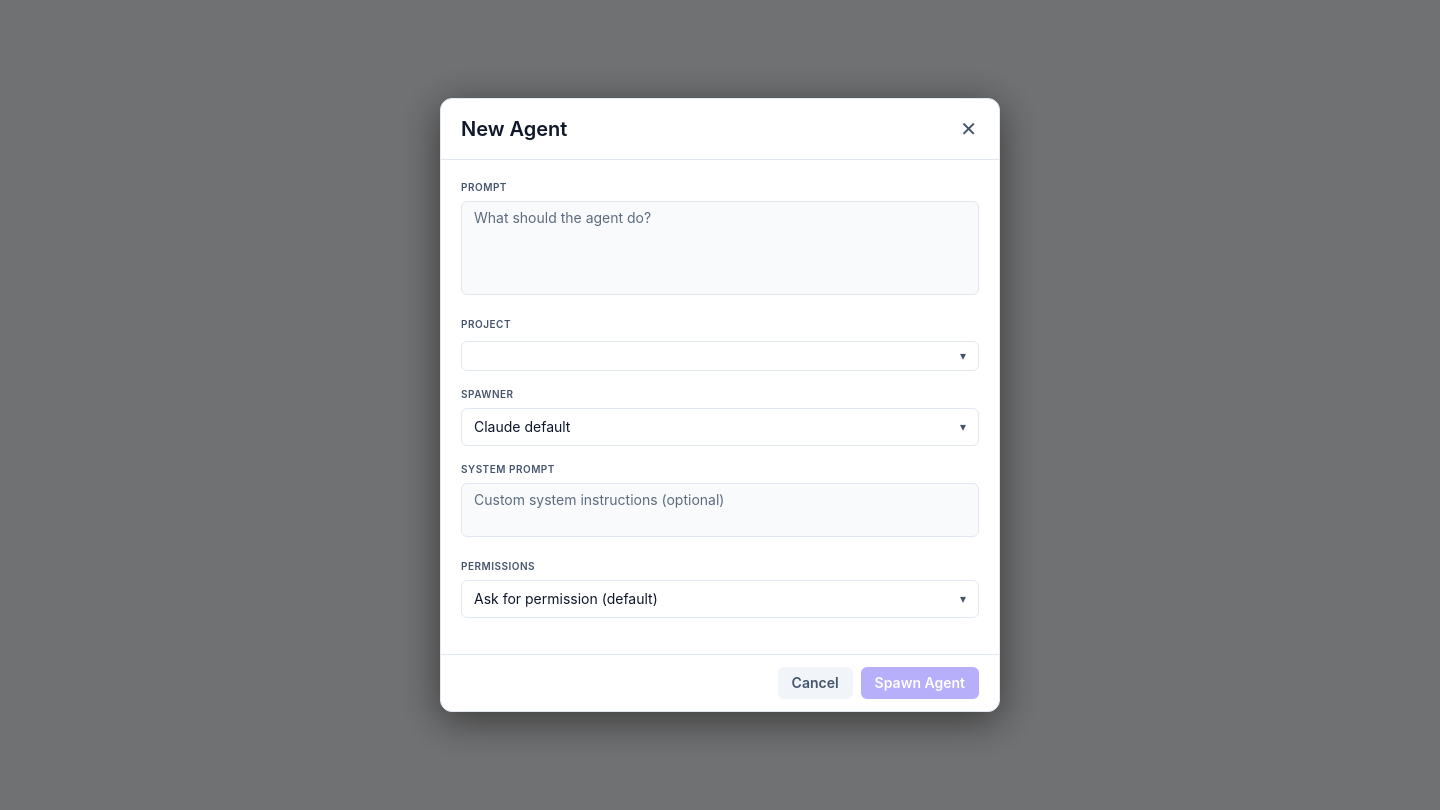
Test case: spawnDialog › dontAsk also shows the dangerous-mode warning banner
The image size is (1440, 810).
Click the dropdown with test id "spawn-permission-mode": (566, 598) [461,580,979,618]
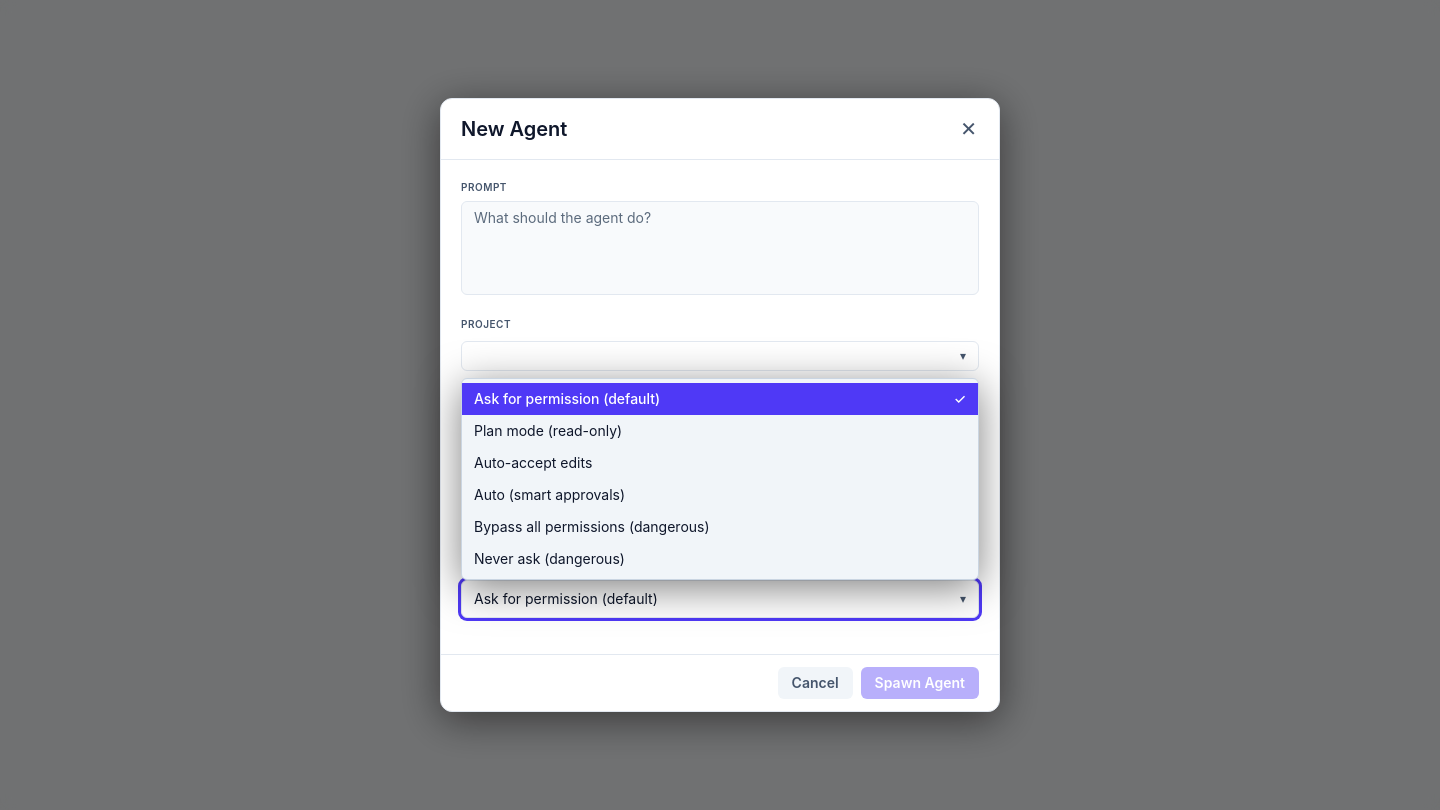
Click the option "Never ask (dangerous)": (549, 558) [474,550,625,567]
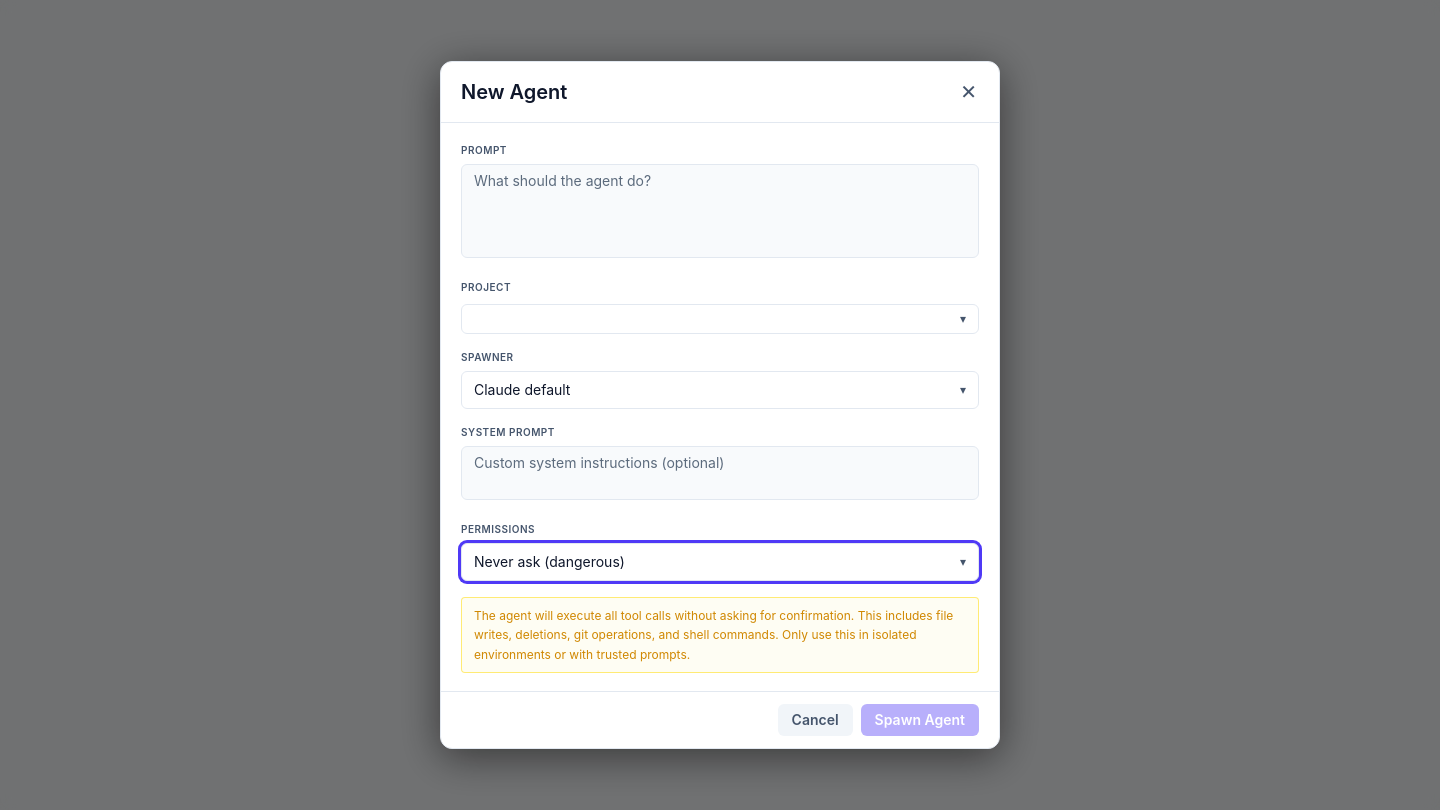
expect the text with test id "bypass-warning" is shown: met, box [461,597,979,673]
Click the dropdown with test id "spawn-permission-mode": (549, 561) [461,543,979,581]
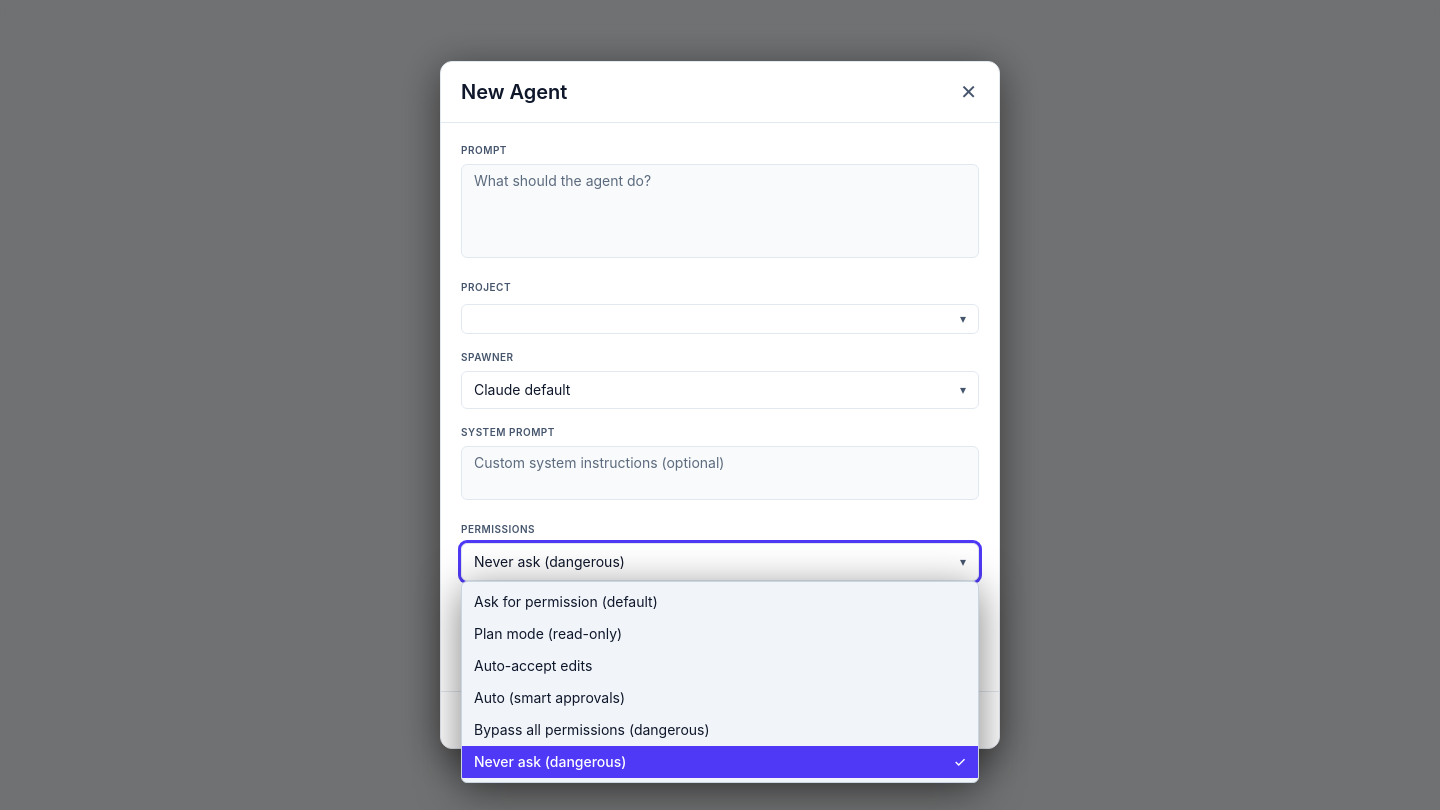
Click the option "Auto (smart approvals)": (550, 697) [474,689,625,706]
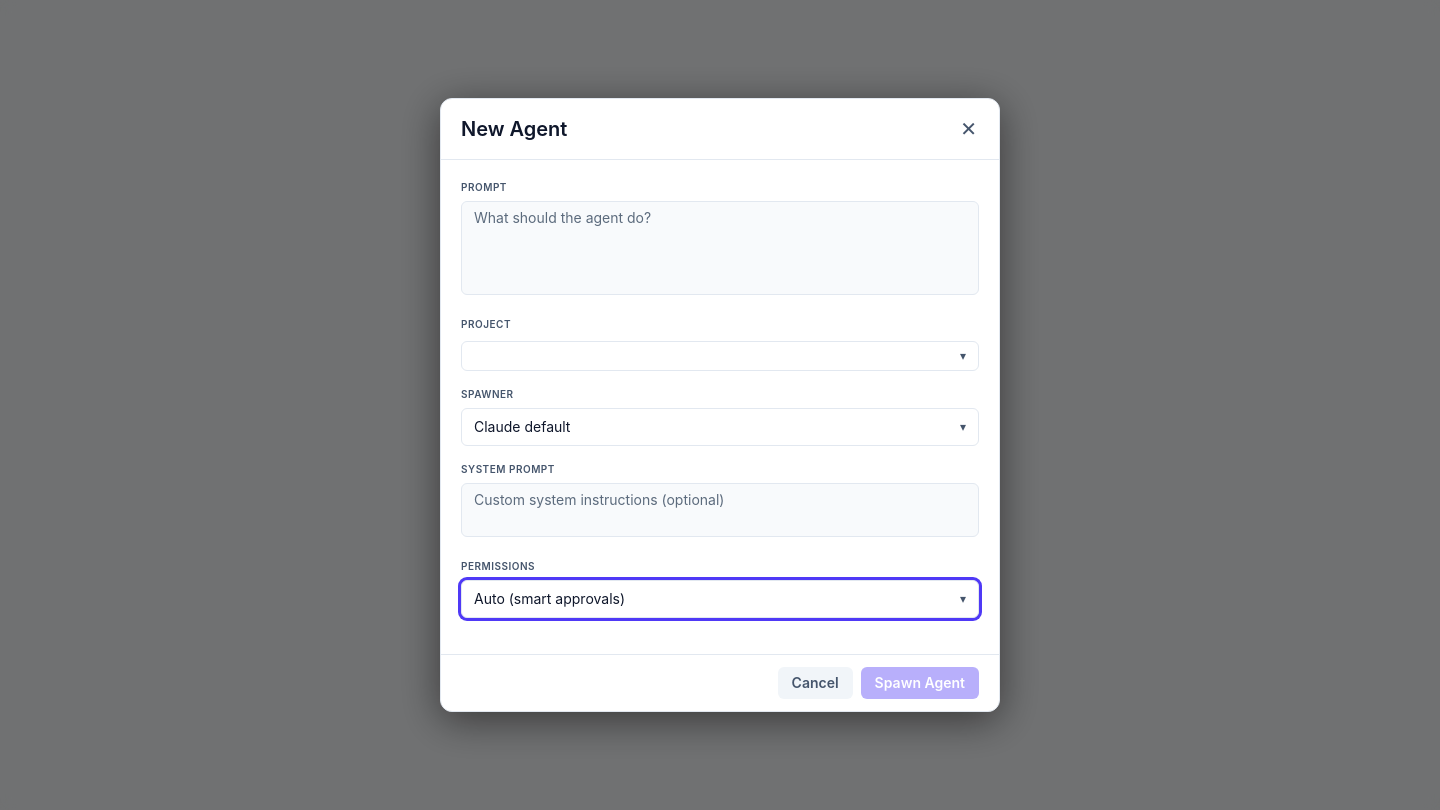
expect the text with test id "bypass-warning" is gone: met
